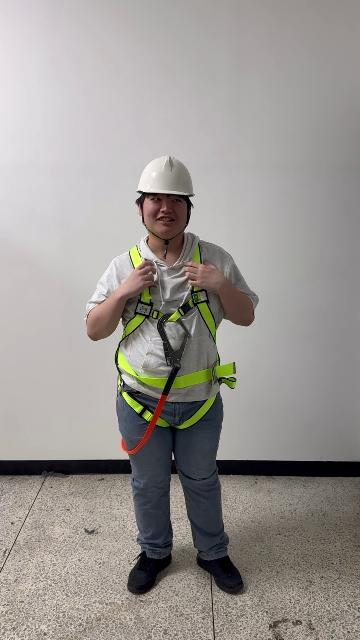helmet_worn: (135, 154, 196, 198)
shoe_not_worn: (126, 551, 172, 594), (196, 553, 243, 594)
vest_worn: (113, 245, 234, 426)
